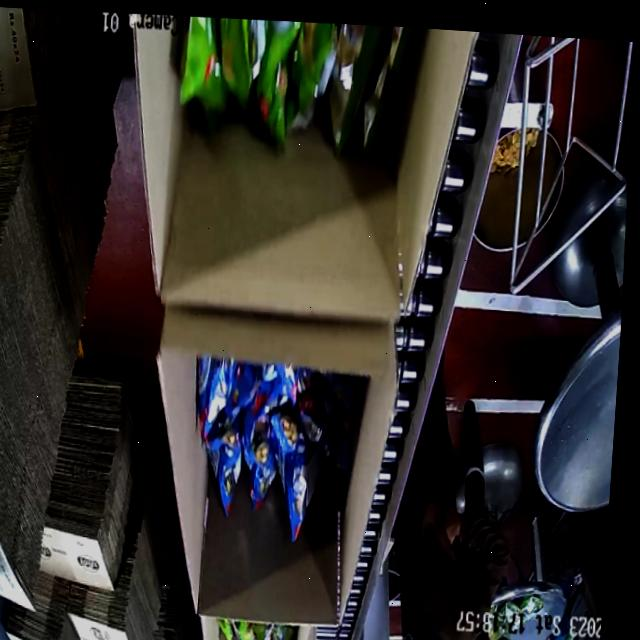PAPRIKA: (182, 350, 365, 541)
